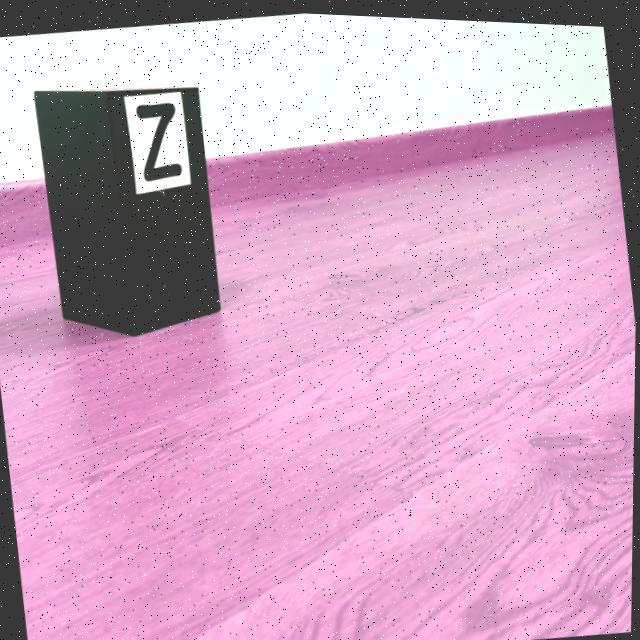Z: (136, 101, 182, 180)
